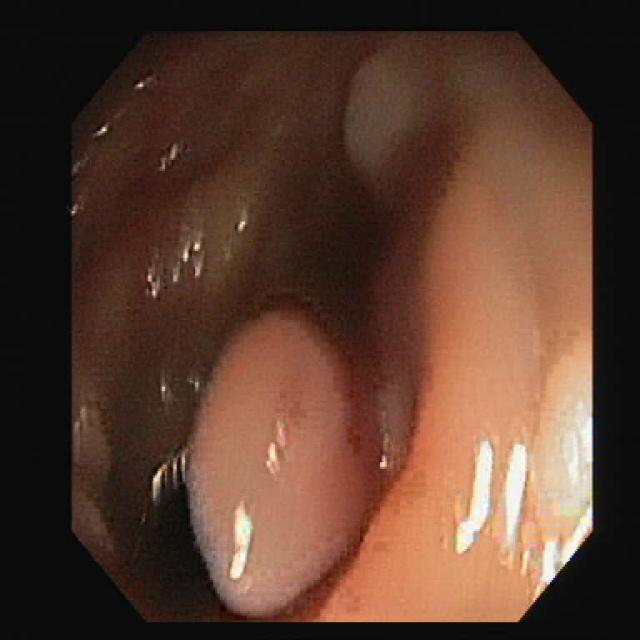tumor: (188, 296, 365, 596)
